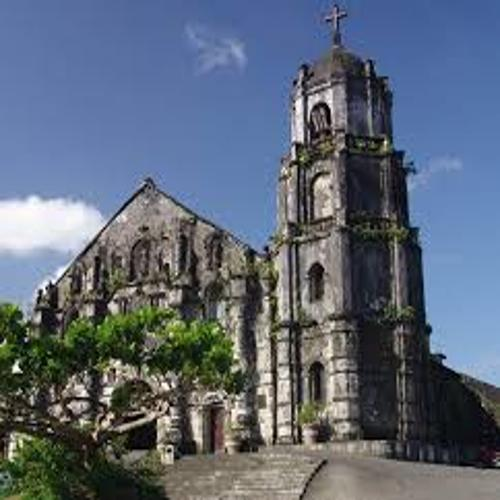Daraga Church: (30, 2, 434, 466)
